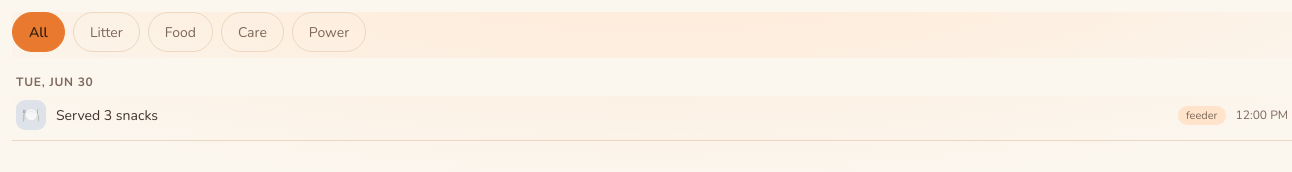
HistoryView › the Power chip filters by event type, not device
Expected: the text "Served 3 snacks" is shown, [56, 106, 158, 124]
Step 1. Click the button "Power" → click(329, 32), box [292, 12, 366, 52]
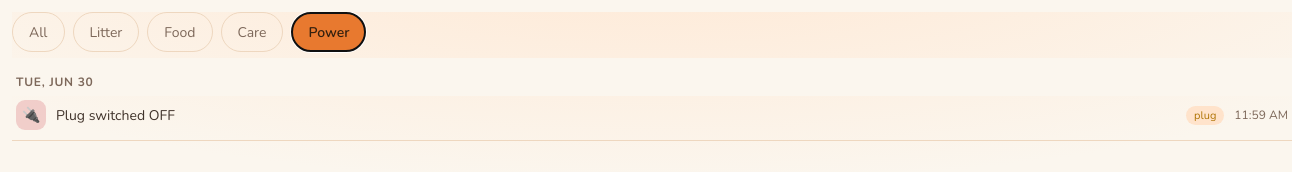
Now the text "Plug switched OFF" is shown, box [56, 106, 175, 124]
